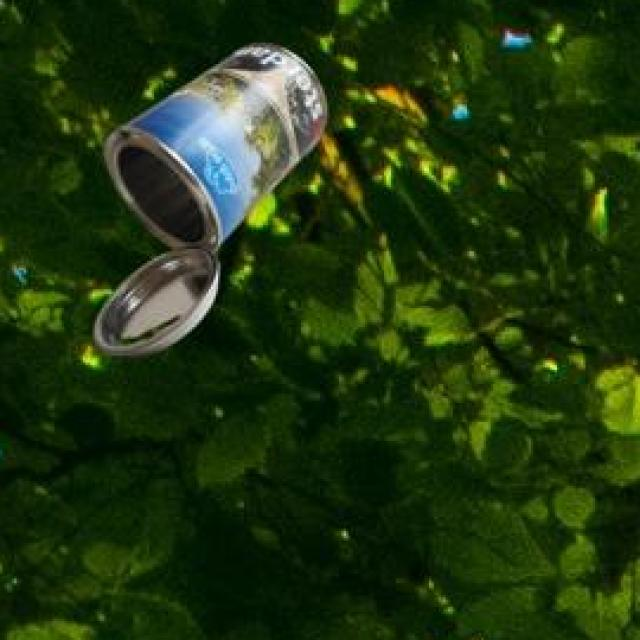logam: (98, 49, 328, 359)
